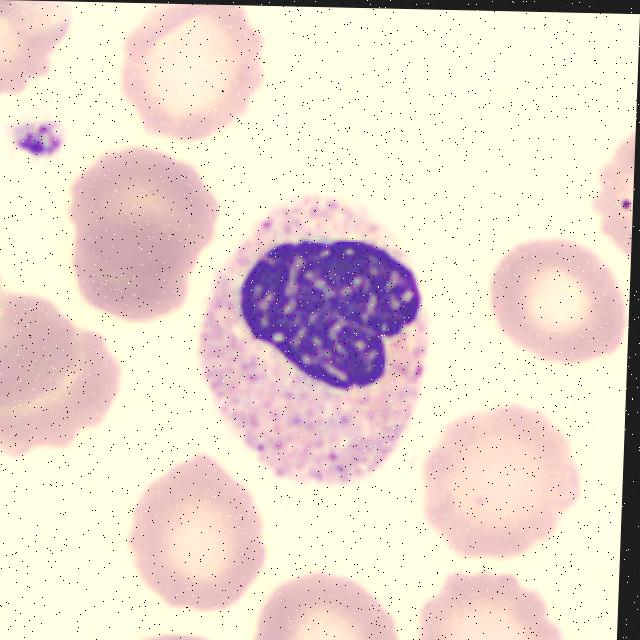neutrophil: (198, 190, 449, 495)
platelets: (11, 108, 79, 160)
rbc: (422, 404, 595, 566), (62, 138, 227, 289), (120, 454, 268, 614), (116, 3, 267, 145), (485, 240, 632, 372), (0, 329, 134, 471), (72, 212, 203, 323), (0, 294, 87, 422), (0, 0, 89, 109), (258, 575, 401, 640), (584, 120, 636, 275), (111, 622, 246, 640), (0, 225, 14, 339)
